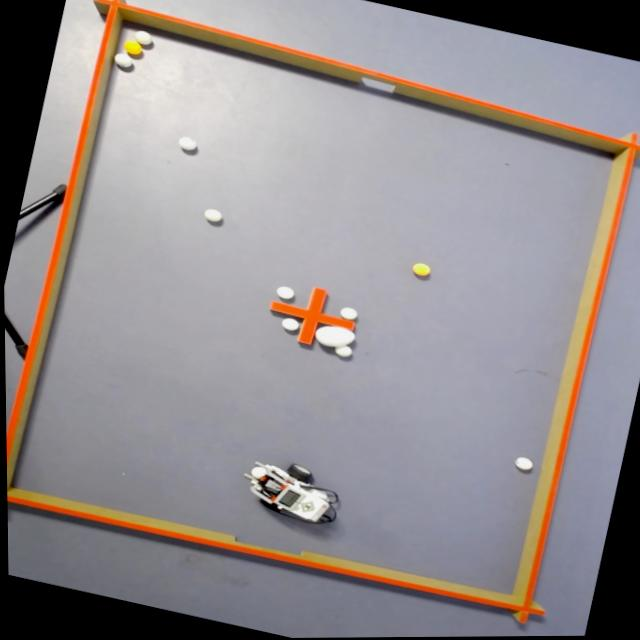boundaries: (5, 0, 640, 625), (11, 19, 613, 595)
cross: (268, 285, 354, 345)
large_goal: (223, 531, 306, 565)
orange_ball: (411, 260, 431, 277), (121, 39, 142, 55)
robot: (232, 451, 346, 532)
small_goal: (354, 68, 402, 95)
white_ball: (508, 453, 535, 475), (272, 283, 296, 301), (200, 205, 223, 223), (174, 133, 197, 151), (278, 314, 299, 332), (337, 304, 359, 321), (111, 50, 133, 67), (132, 28, 154, 45), (332, 341, 352, 359)
